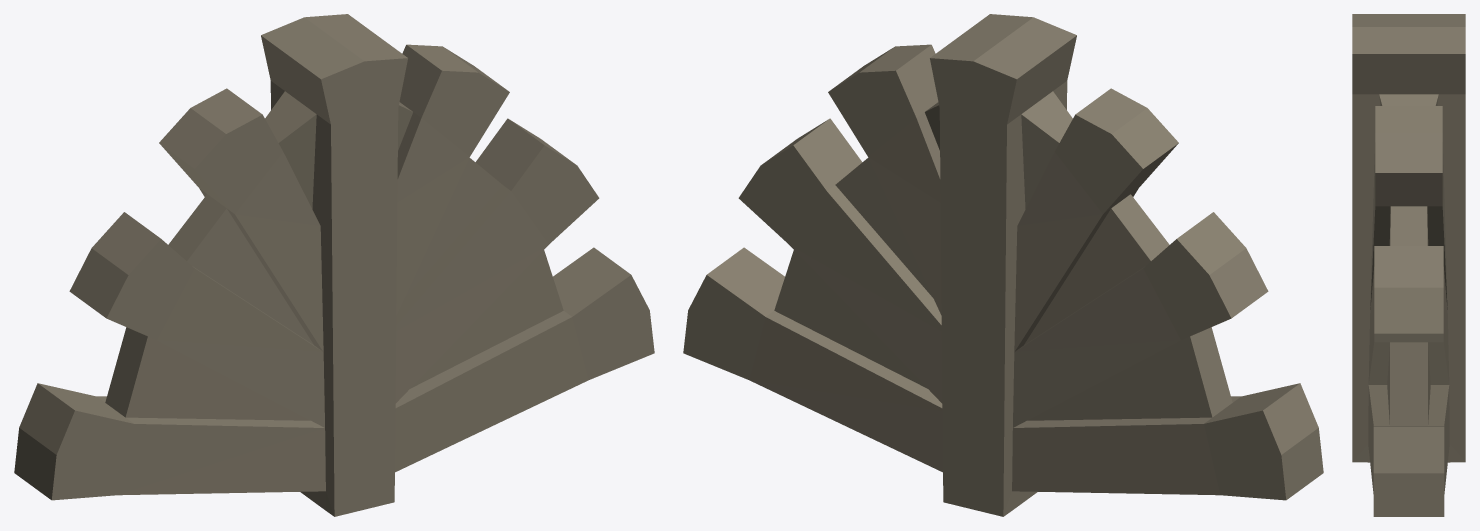
The model's file is TempleStatue_C.fbx.
The picture shows the model from 3 angles, left to right: view 1: azimuth 30°, elevation 25°; view 2: azimuth 150°, elevation 25°; view 3: azimuth 270°, elevation 25°; orthographic projection. The views are drawn at different scales.
Parts seen in each view (by area): view 1: TempleStatue_C; view 2: TempleStatue_C; view 3: TempleStatue_C.
Boxes of the visible parts, x1,y1,x2,y2 form: TempleStatue_C: (14,14,654,516); TempleStatue_C: (683,14,1323,516); TempleStatue_C: (1352,14,1465,516).
Bounding box in the file's own units: 1349 × 958 × 233.
